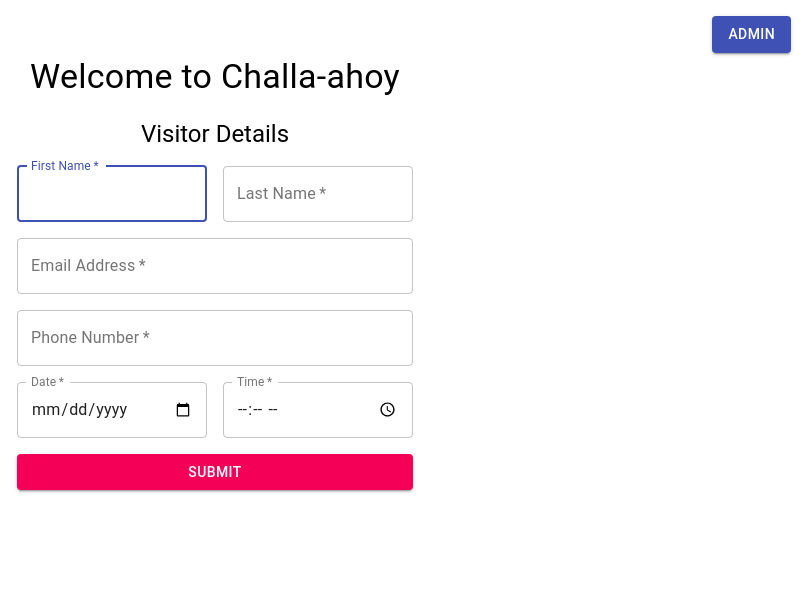
submit registeration form with invalid firstName
This screenshot has width=809, height=590.
Click the button with test id "submit-btn". click: (215, 472)
box: [17,454,413,490]
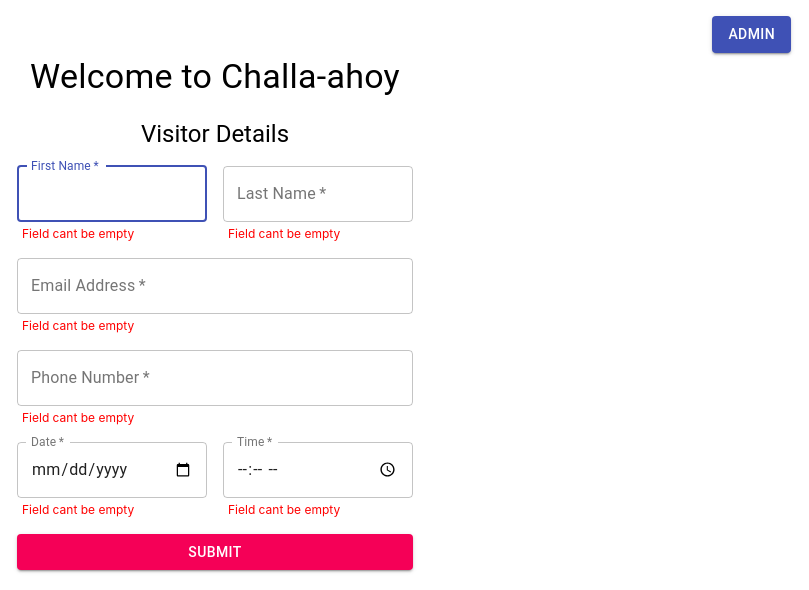
expect the text with test id "firstName-error" reads "Field cant be empty": met, box [22,226,134,241]
